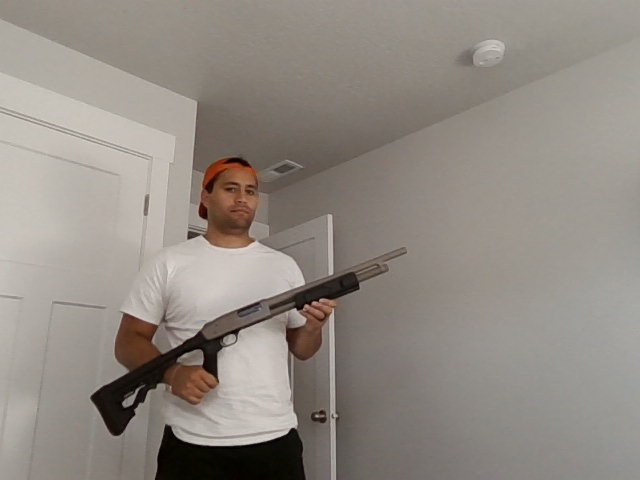shotgun: (89, 244, 409, 436)
